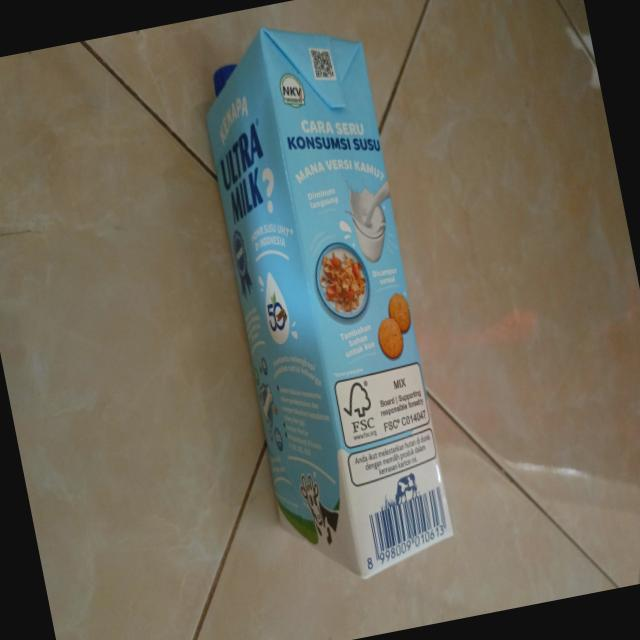ultramilk-full-cream: (188, 11, 468, 592)
